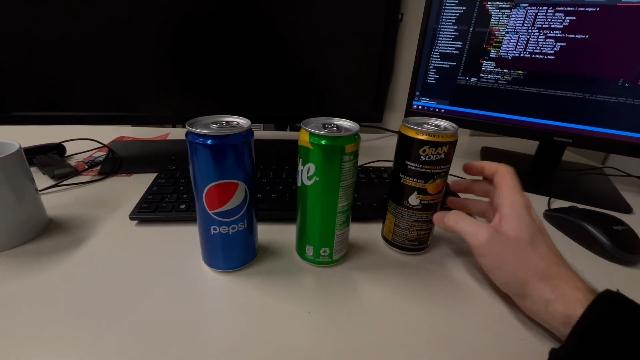OranSoda: (378, 116, 459, 256)
Pepsi: (183, 112, 260, 274)
Sprite: (295, 114, 363, 270)
